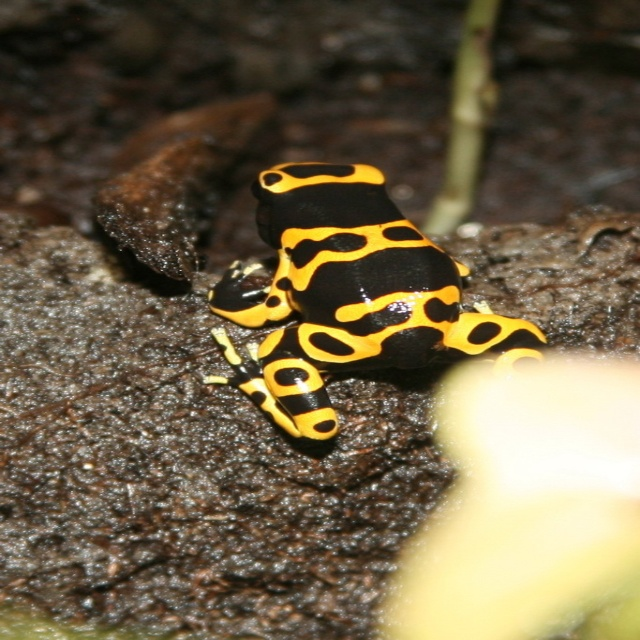Frog: (191, 160, 548, 450)
